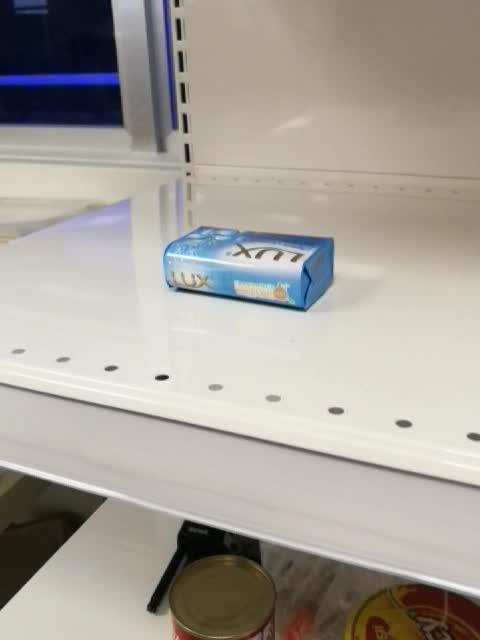soap: (161, 224, 337, 313)
